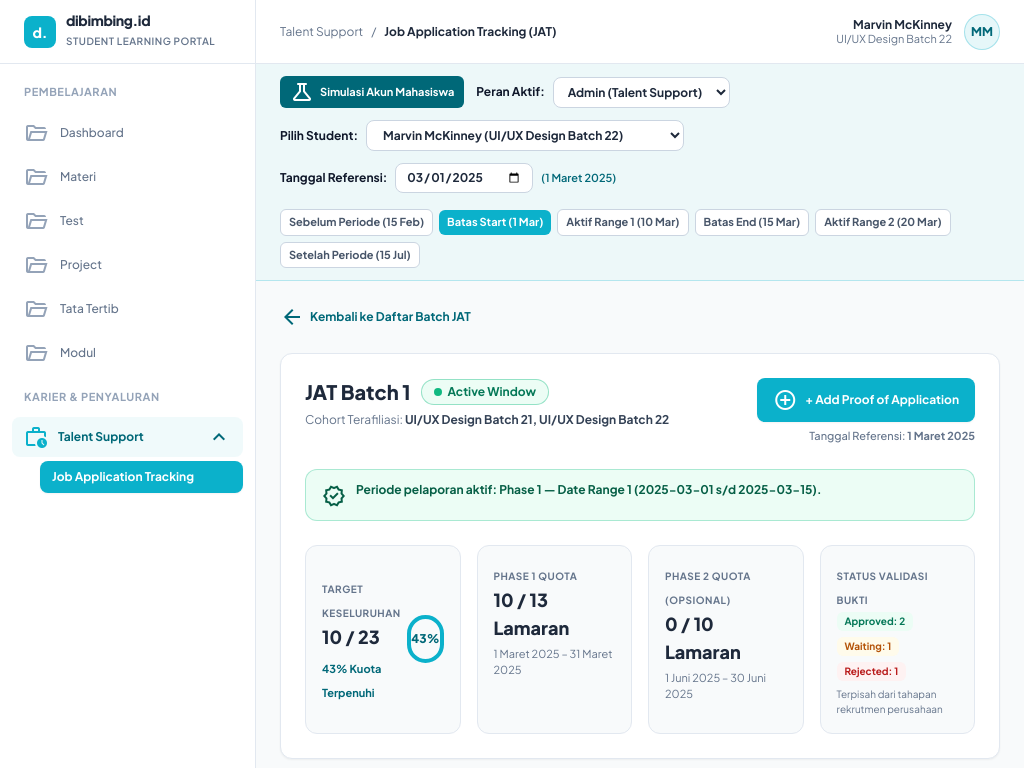
EP-JAT-03 Student UI Integration Tests: Batch List, Empty States, Detail & Period Access Gating (BLG-JAT-009, BLG-JAT-010, BLG-JAT-012) › displays Phase 1, Phase 2, date ranges, job-level targets, and enforces period boundary access on "+ Add Proof of Application"
Expected: the button "+ Add Proof of Application" is enabled, [757,378,975,422]
Click the button "Sebelum Periode (15 Feb)" at [357, 222], box [280,209,433,236]
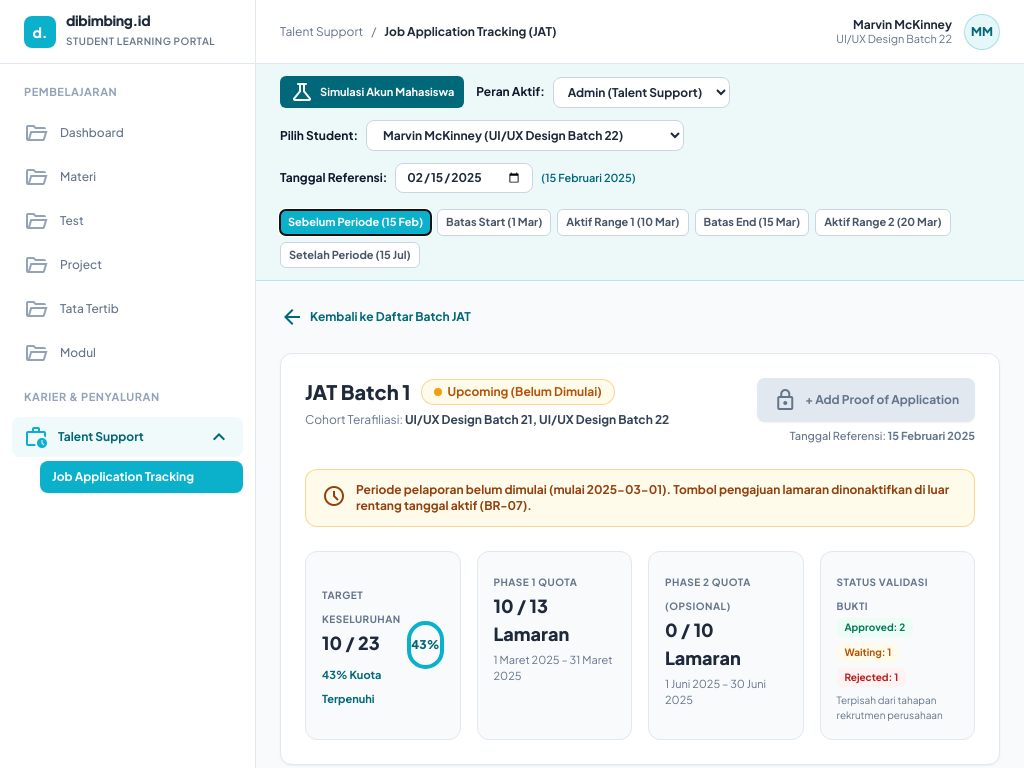
Now the button "+ Add Proof of Application" is disabled, box [757,378,975,422]
Now the text "Periode pelaporan belum dimulai" is shown, box [356,482,949,512]
Click the button "Batas End (15 Mar)" at [752, 222], box [694,209,809,236]
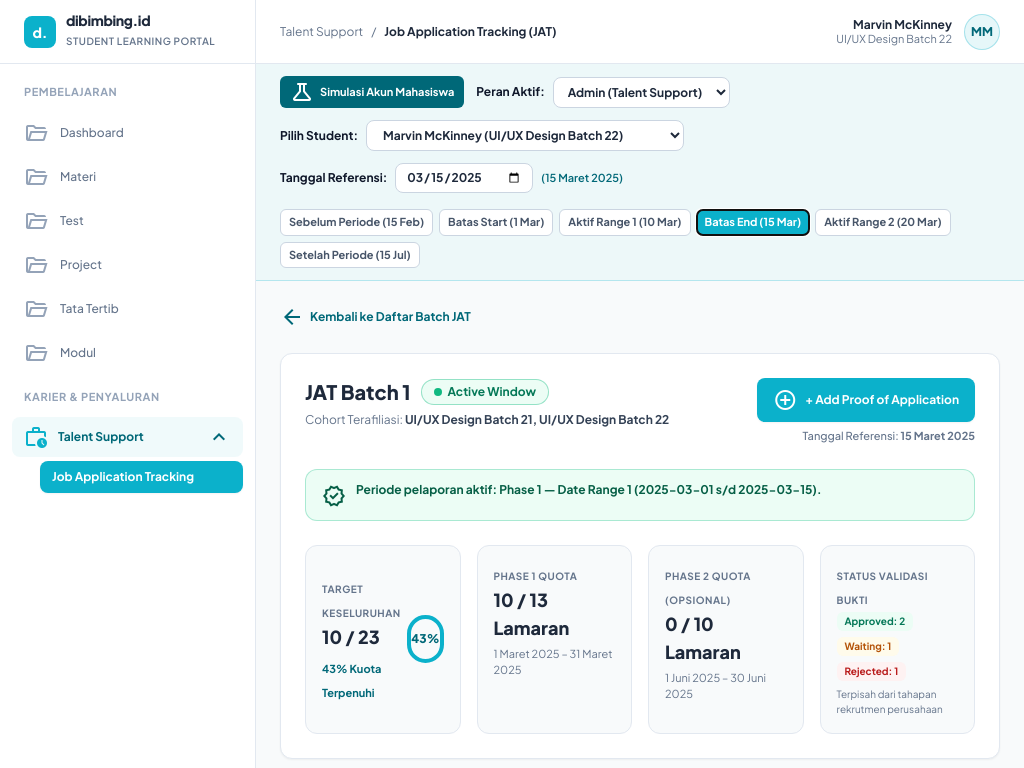
Now the button "+ Add Proof of Application" is enabled, box [757,378,975,422]
Click the button "Setelah Periode (15 Jul)" at [350, 255], box [280,242,420,268]
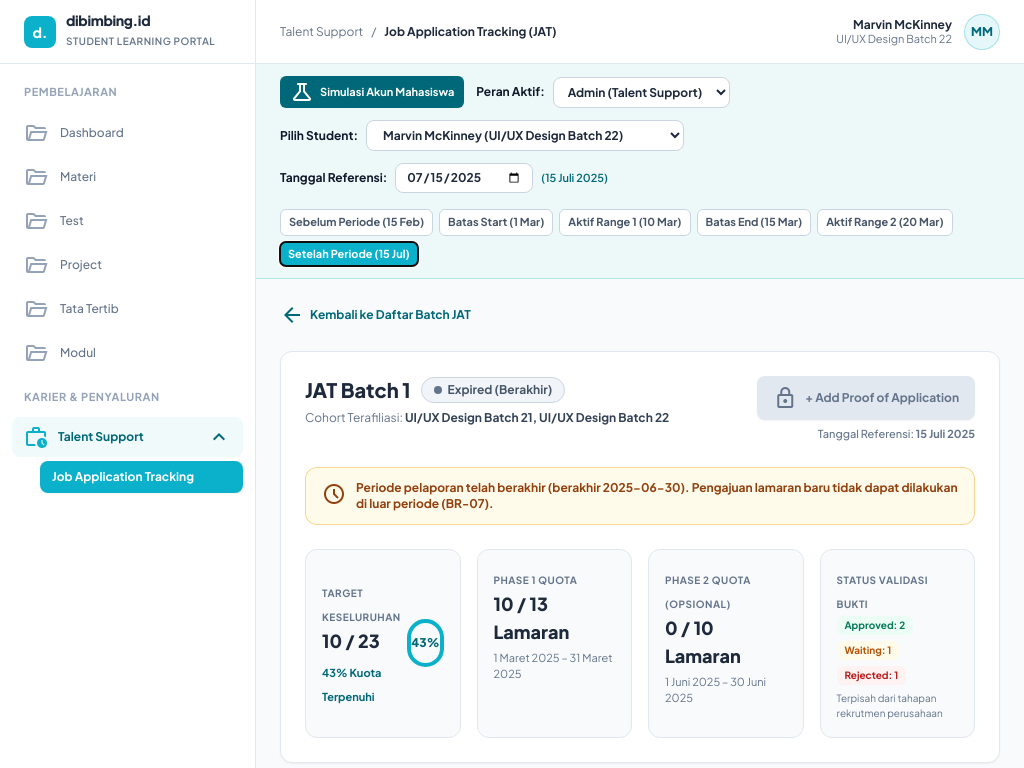
Now the button "+ Add Proof of Application" is disabled, box [757,376,975,420]
Now the text "Periode pelaporan telah berakhir" is shown, box [356,480,958,510]
